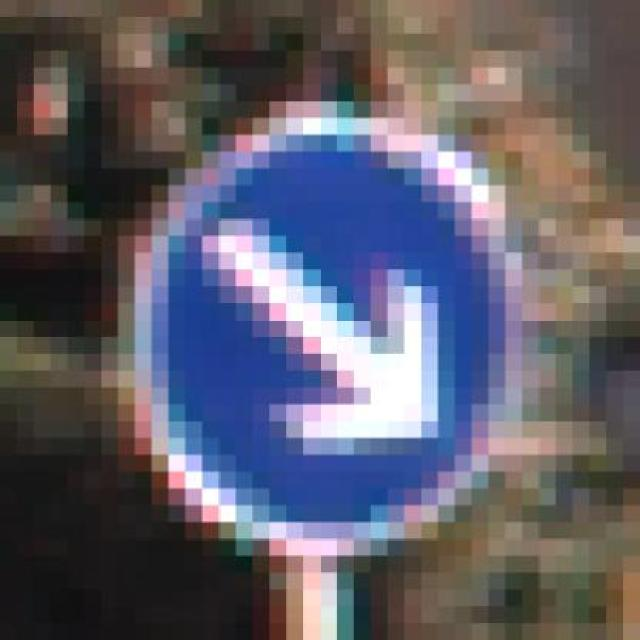Keep-Right: (118, 84, 539, 573)
